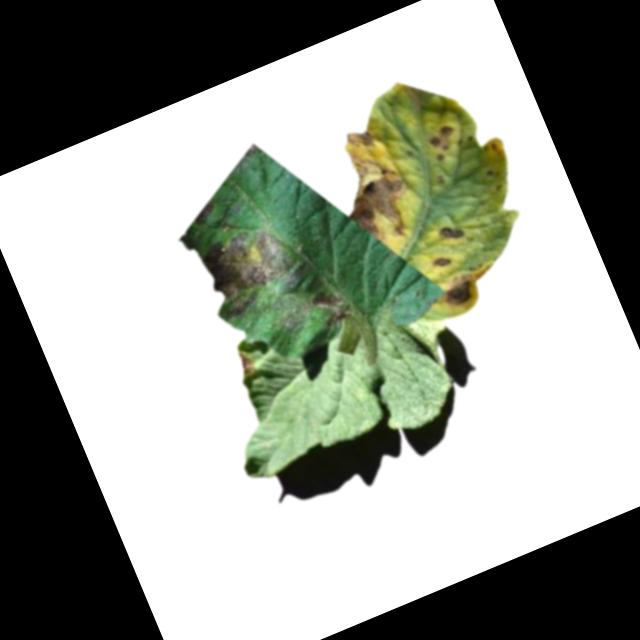Early_blight: (319, 119, 425, 253), (194, 216, 314, 325), (306, 284, 355, 331), (436, 275, 483, 316), (425, 123, 466, 165), (440, 220, 469, 246), (235, 349, 258, 379), (431, 255, 452, 272)
